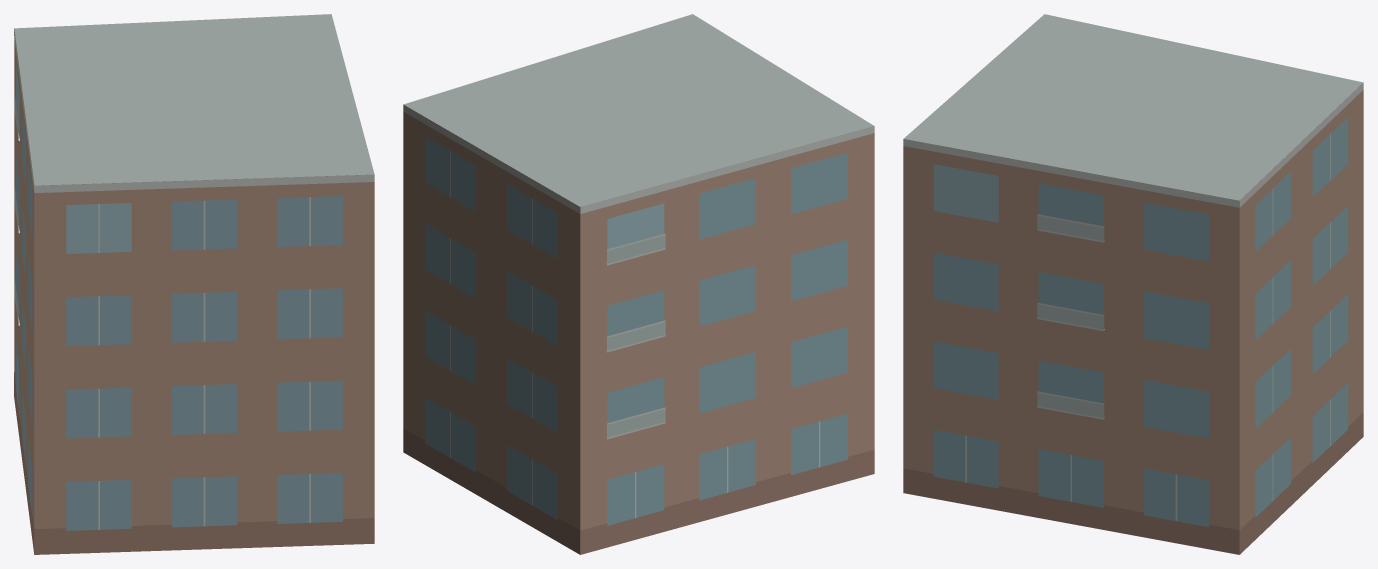
Rendered from survey-upis-32724533.glb.
The picture shows the model from 3 angles, left to right: view 1: azimuth 30°, elevation 25°; view 2: azimuth 150°, elevation 25°; view 3: azimuth 270°, elevation 25°; orthographic projection. The views are drawn at different scales.
Visible parts, largest first — view 1: survey-upis-32724533.tmp; view 2: survey-upis-32724533.tmp; view 3: survey-upis-32724533.tmp.
Boxes of the visible parts, x1,y1,x2,y2 form: survey-upis-32724533.tmp: (14,14,374,554); survey-upis-32724533.tmp: (403,14,874,554); survey-upis-32724533.tmp: (903,14,1363,554).
Bounding box in the file's own units: 13.69 × 12.1 × 14.26.
